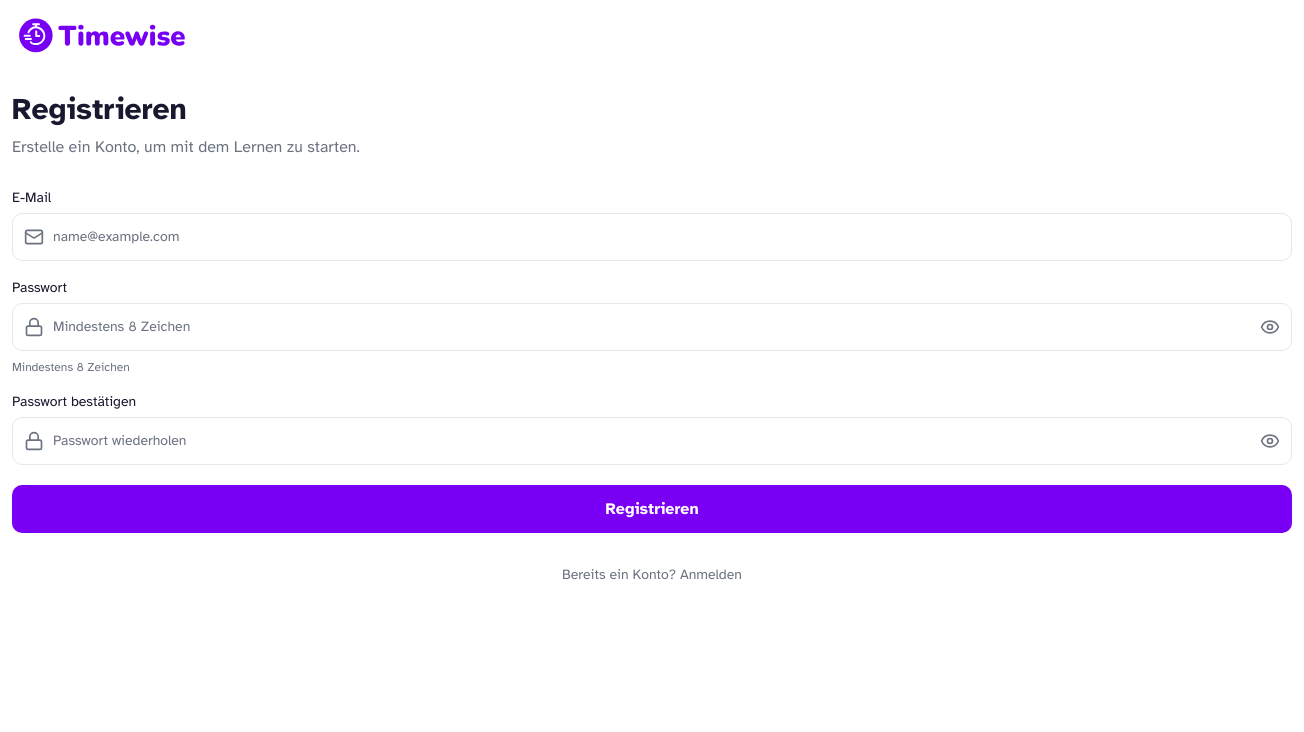
Scenario: RegisterPage › shows the server error message when registration fails
Type "test@example.com" into the field with placeholder "name@example.com". click: (652, 237)
box: [12,213,1292,261]
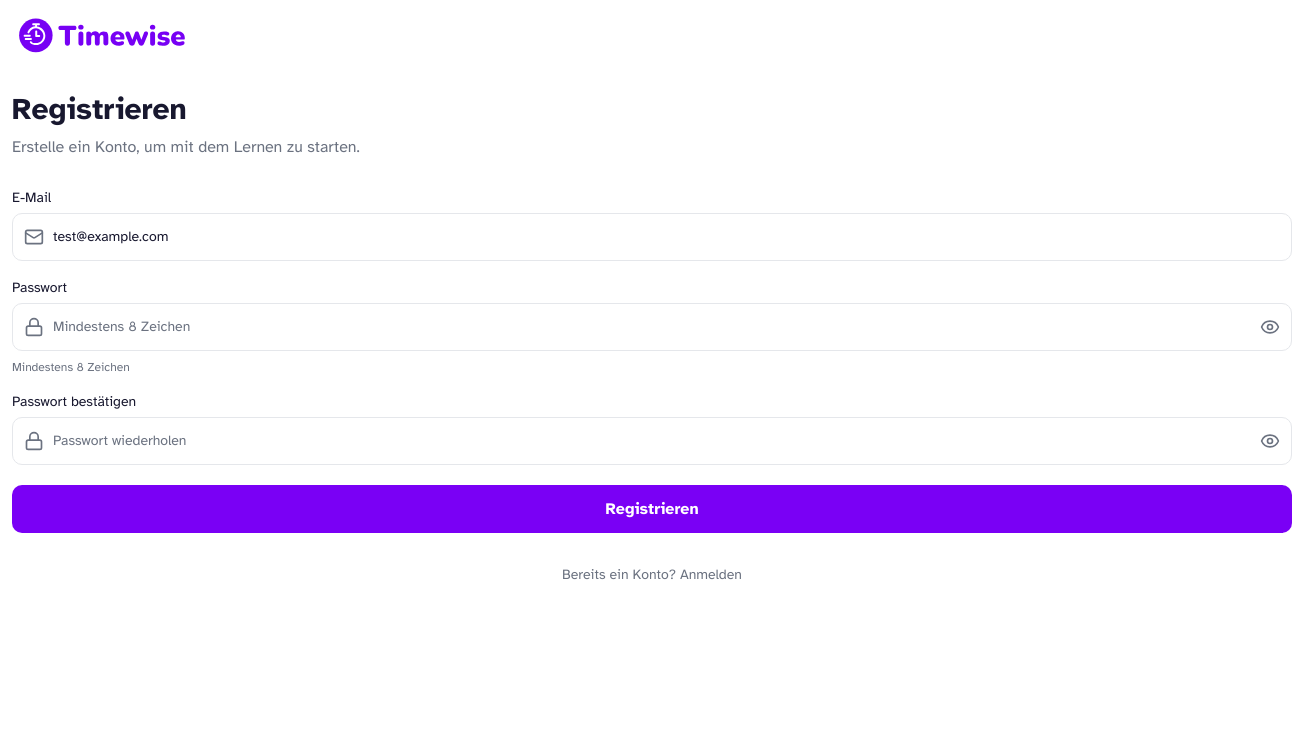
Type "12345678" into the password field with placeholder "Mindestens 8 Zeichen". click: (652, 327)
box: [12,303,1292,351]
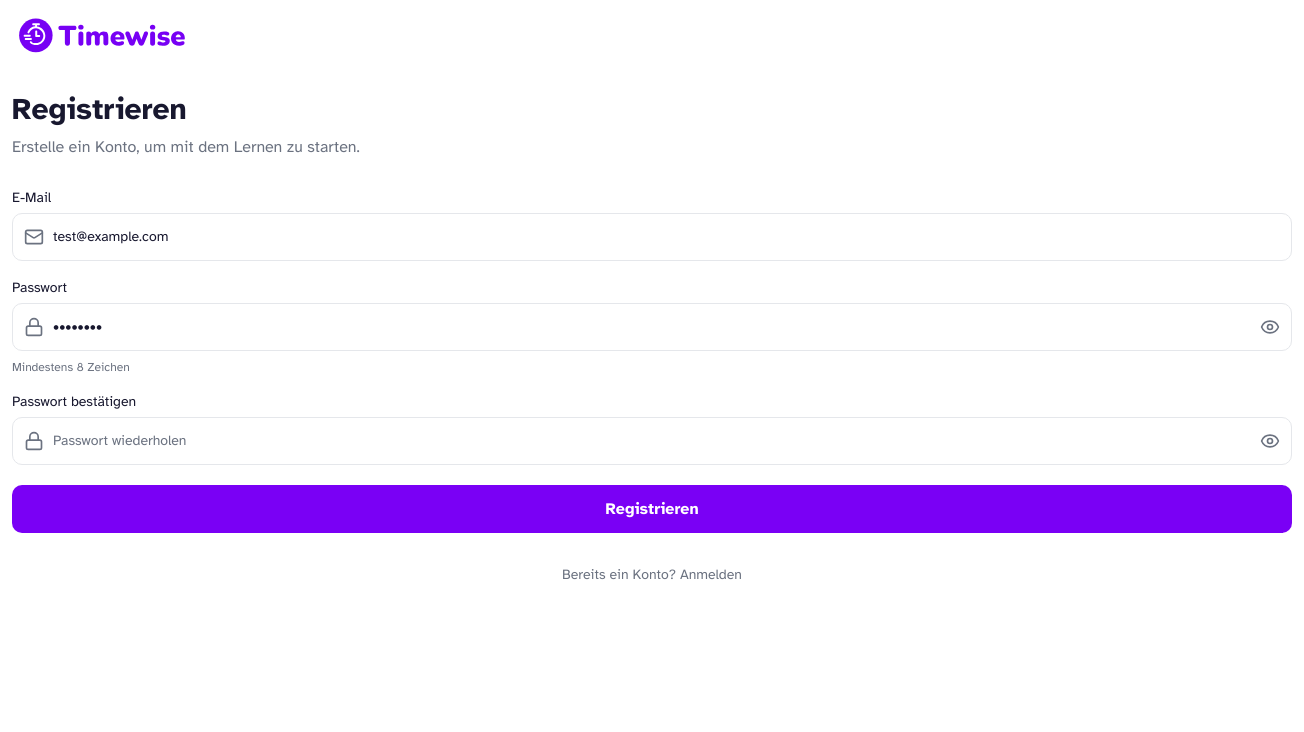
Type "12345678" into the password field with placeholder "Passwort wiederholen". click: (652, 441)
box: [12,417,1292,465]
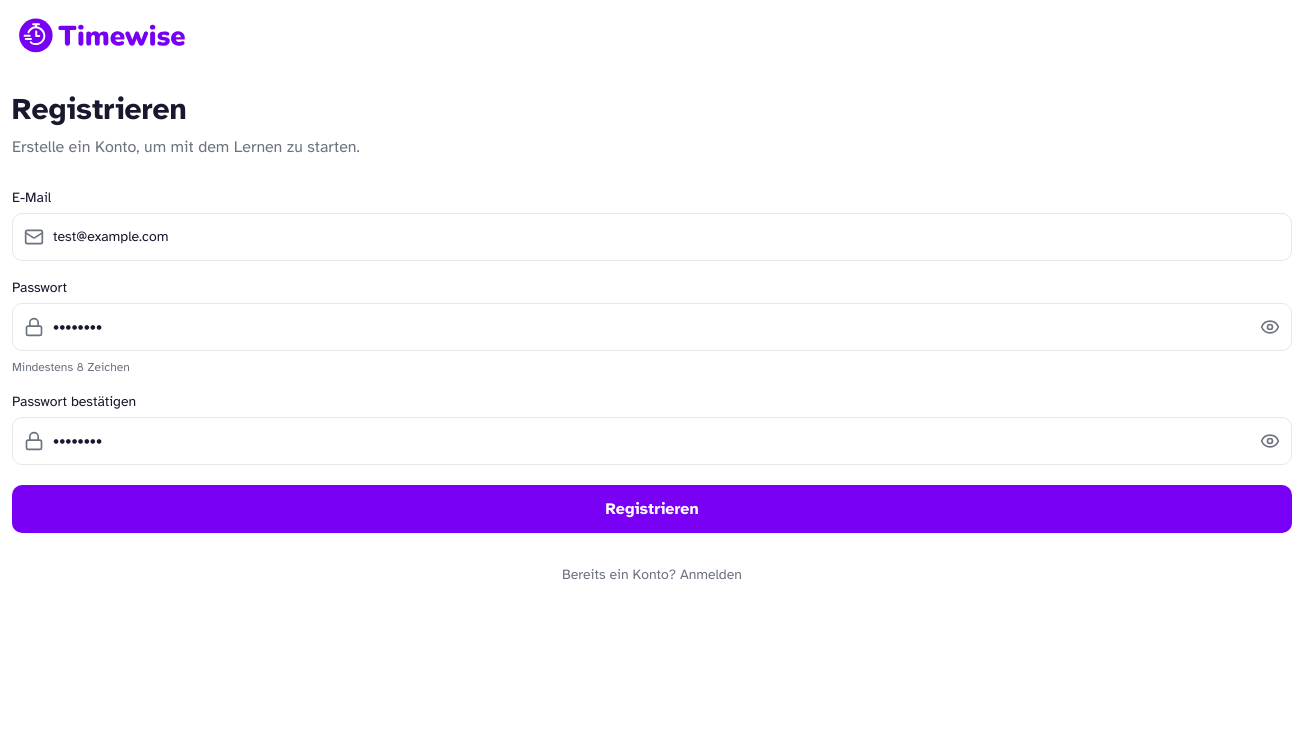
Click the button "Registrieren". click: (652, 509)
box: [12,485,1292,533]
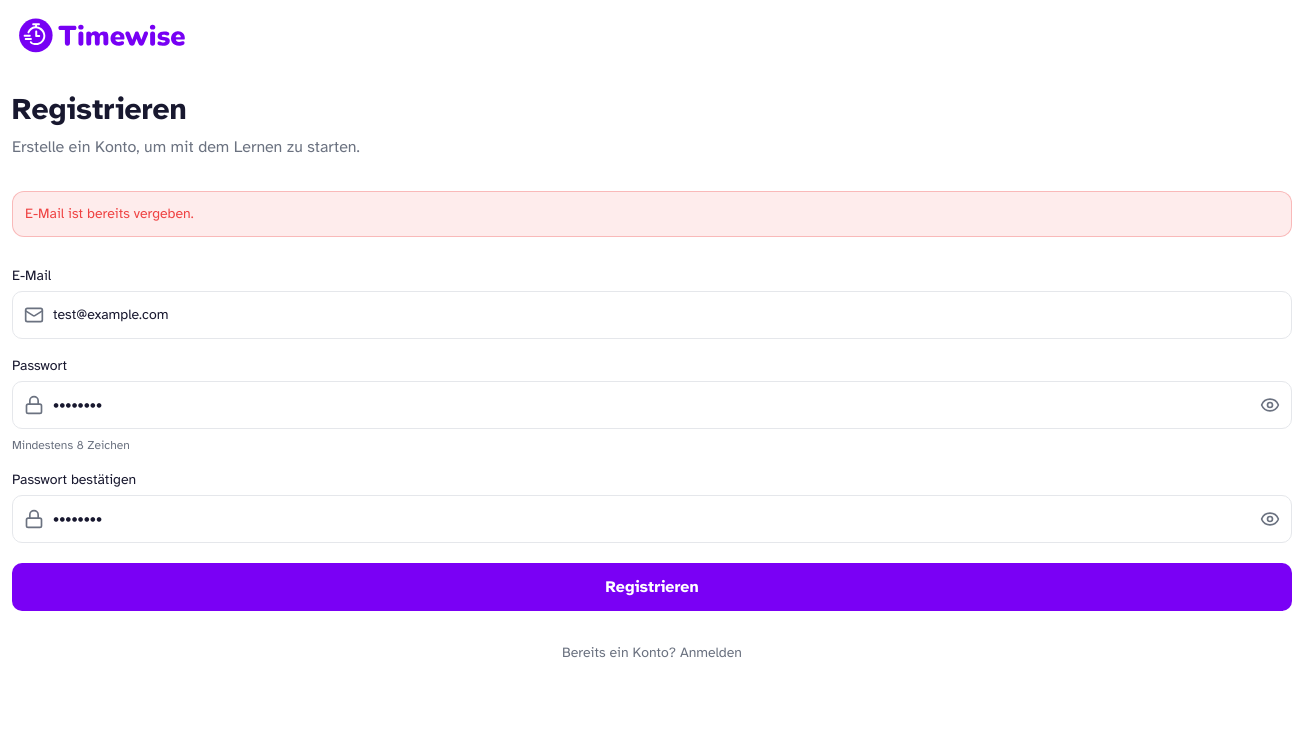
Expected: the text "E-Mail ist bereits vergeben." is shown, [12,191,1292,237]
